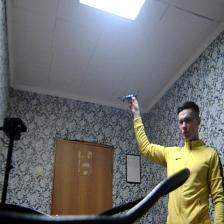drone: (116, 82, 142, 107)
